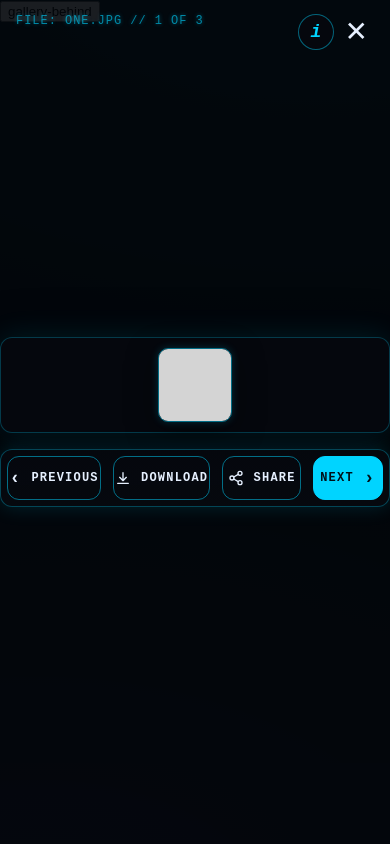
Test: LightboxContainer — details drawer › opens and closes via the info toggle, updating aria state
Click the button with class "lightbox-info-btn" at (316, 32), box x1=298 y1=14 x2=334 y2=50
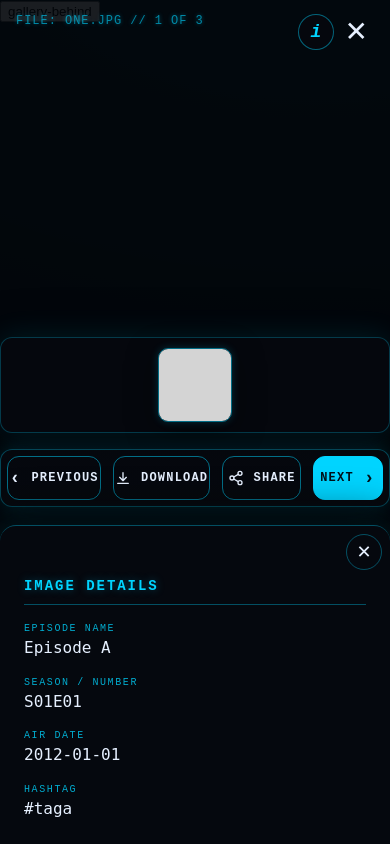
Now the dialog with id "lightbox-details-drawer" is shown, box x1=0 y1=525 x2=389 y2=843
Click the button with class "lightbox-info-btn" at (316, 32), box x1=298 y1=14 x2=334 y2=50
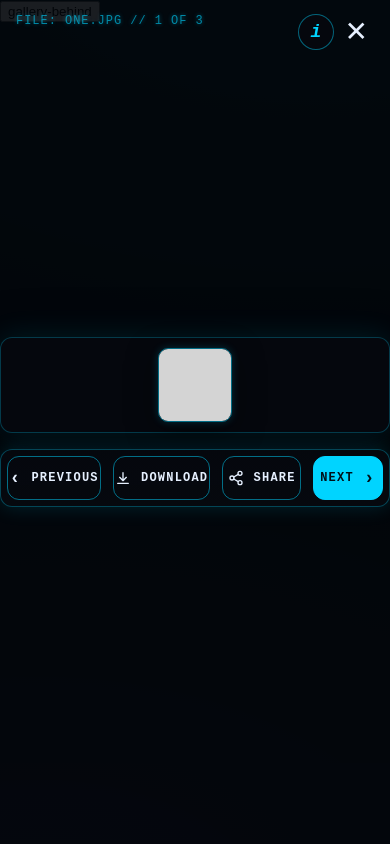
Now the dialog with id "lightbox-details-drawer" is gone
